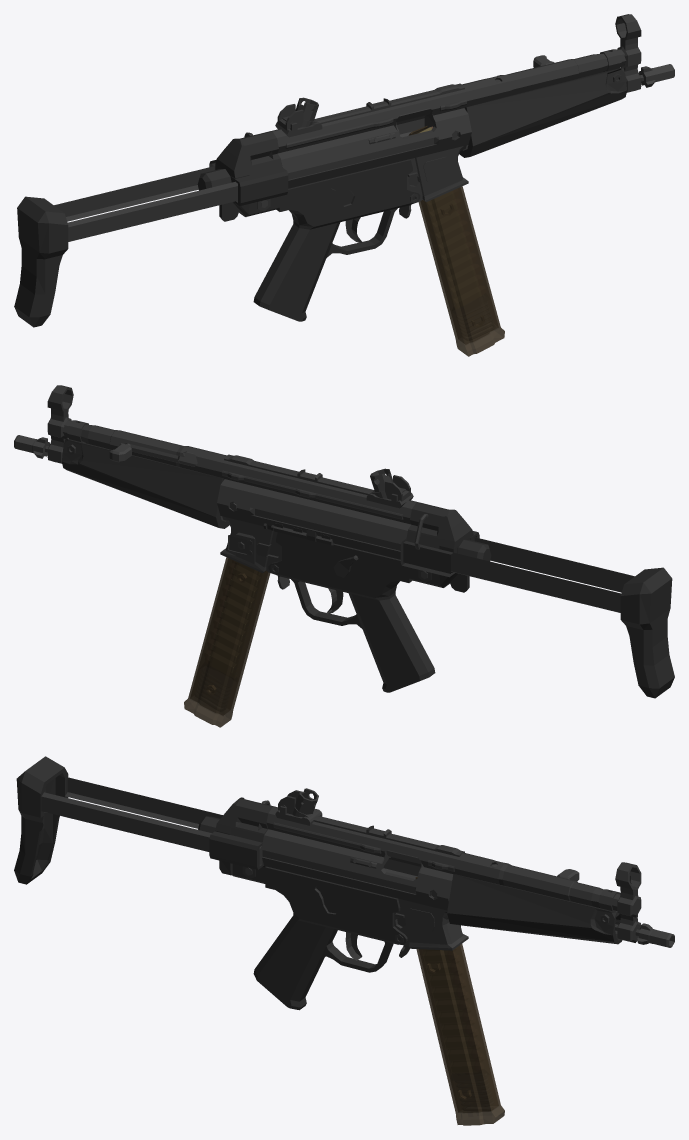
The picture shows the model from 3 angles, top to bottom: view 1: azimuth 30°, elevation 25°; view 2: azimuth 150°, elevation 25°; view 3: azimuth 330°, elevation 25°; orthographic projection.
Parts seen in each view (by area): view 1: MP5/10_0; view 2: MP5/10_0; view 3: MP5/10_0.
Boxes of the visible parts, x1,y1,x2,y2 form: MP5/10_0: (14, 14, 674, 356); MP5/10_0: (14, 385, 674, 727); MP5/10_0: (14, 756, 674, 1125).
Size of the model in its own units: 7.44 by 3.25 by 0.6602.
